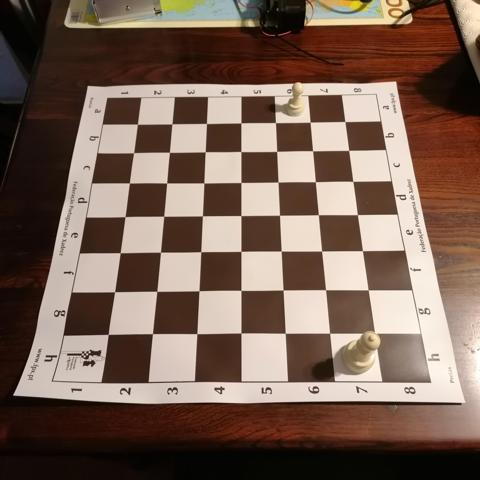xcorner: (301, 113, 317, 129), (232, 115, 248, 131), (197, 115, 213, 131), (163, 116, 179, 132), (129, 117, 145, 133), (341, 141, 357, 157), (268, 142, 284, 158), (232, 143, 248, 159), (196, 143, 212, 159), (160, 144, 176, 160), (307, 172, 323, 188), (232, 173, 248, 189), (157, 174, 173, 190), (350, 205, 366, 221), (232, 206, 248, 222), (193, 206, 209, 222), (154, 207, 170, 223), (116, 207, 132, 223), (314, 241, 330, 257), (232, 242, 248, 258), (191, 242, 207, 258), (318, 281, 334, 297), (189, 281, 205, 297), (105, 282, 121, 298), (337, 113, 352, 129), (267, 114, 282, 130), (304, 142, 320, 157), (125, 145, 141, 160), (345, 172, 361, 187), (269, 173, 285, 188), (194, 174, 210, 189), (311, 205, 326, 221), (271, 206, 287, 221), (356, 241, 371, 257), (273, 242, 289, 257), (111, 243, 126, 259), (362, 281, 377, 297), (275, 281, 290, 297), (232, 281, 247, 297), (147, 282, 163, 297), (368, 325, 384, 340), (322, 325, 338, 340), (277, 325, 293, 340), (187, 325, 203, 340), (121, 175, 136, 190), (151, 243, 166, 258), (232, 325, 247, 340), (143, 325, 158, 340), (99, 325, 114, 340)
